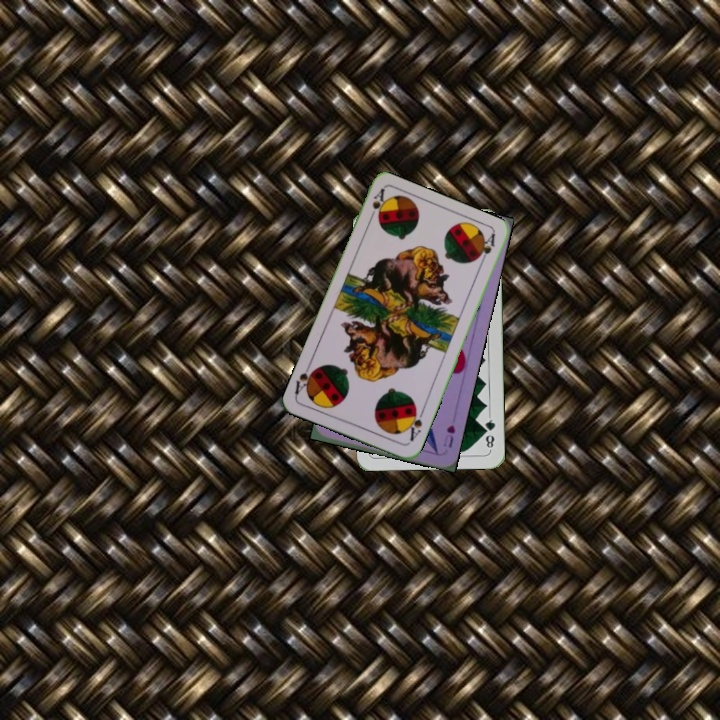G8: (480, 412, 498, 452)
HU: (439, 420, 458, 450)
SA: (364, 185, 388, 225), (403, 404, 426, 444)
